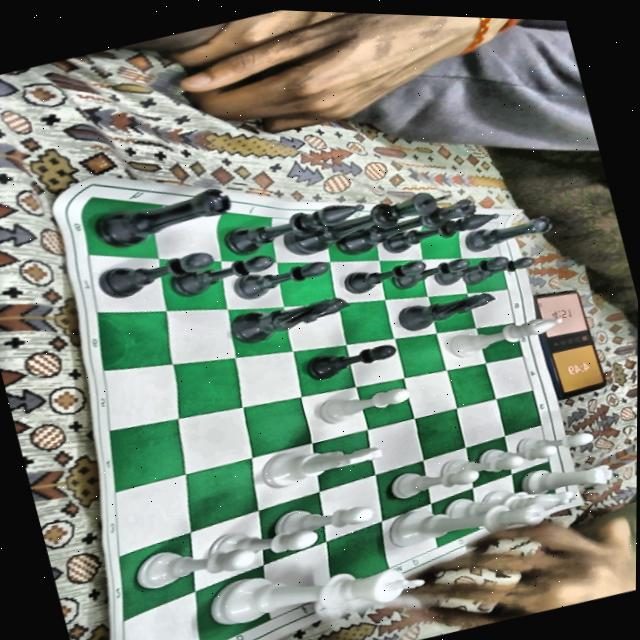BlackBishop: (218, 192, 370, 265), (378, 200, 507, 262)
BlackKing: (278, 180, 459, 266)
BlackKnight: (221, 283, 353, 353), (392, 281, 498, 340)
BlackPawn: (95, 239, 224, 307), (162, 243, 281, 305), (229, 250, 341, 311), (298, 332, 400, 388), (336, 251, 431, 300), (385, 248, 476, 294), (459, 247, 540, 290), (433, 249, 514, 292)
BlackQueen: (335, 191, 483, 263)
BlackRook: (91, 177, 241, 256), (457, 208, 557, 258)
WhiteBishop: (437, 468, 572, 539), (435, 304, 566, 366)
WhiteKing: (198, 528, 432, 640)
WhiteKnight: (254, 426, 387, 501)
WhitePawn: (128, 525, 262, 601), (261, 487, 379, 553), (205, 511, 320, 577), (310, 375, 416, 432), (381, 450, 483, 509), (433, 440, 525, 492), (470, 431, 560, 481), (513, 419, 596, 467)
WhiteQueen: (382, 475, 547, 563)
WhiteRook: (513, 448, 616, 510)
